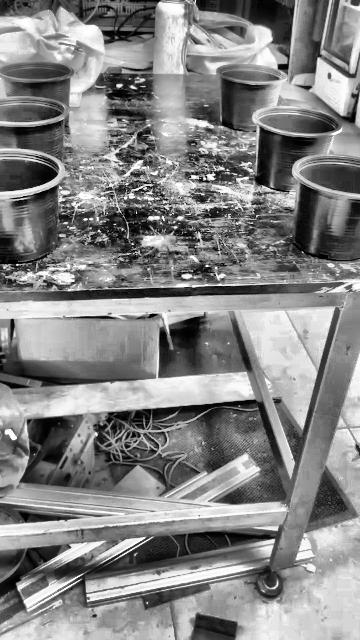pot: (253, 105, 341, 191), (0, 149, 64, 266), (292, 155, 360, 263), (0, 97, 67, 161), (216, 66, 281, 130), (0, 61, 73, 106)
